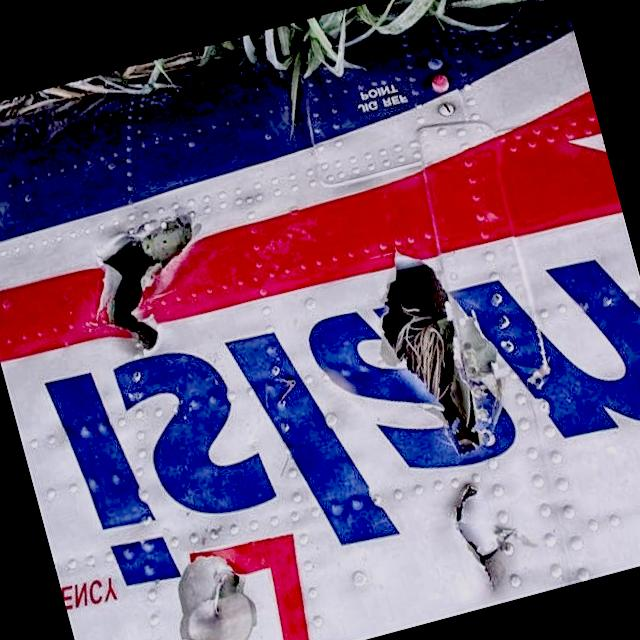crack: (350, 220, 521, 475), (70, 202, 234, 368), (441, 468, 536, 606), (200, 565, 250, 624)
